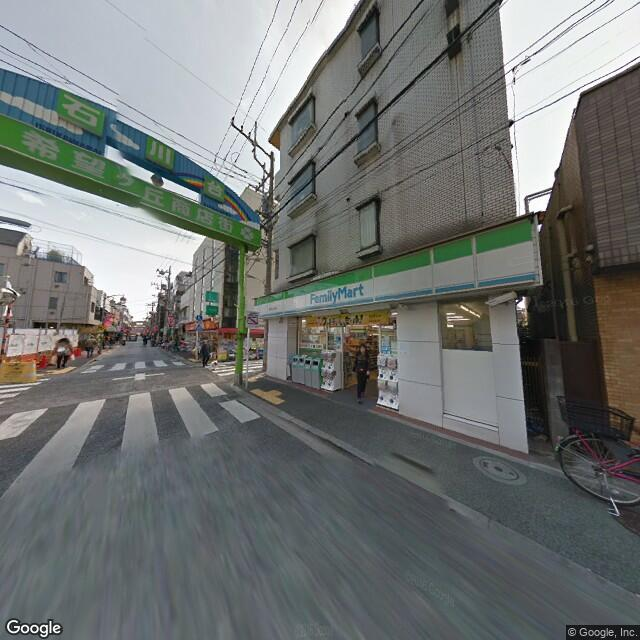family_mart: (251, 214, 536, 324), (307, 279, 371, 311)
